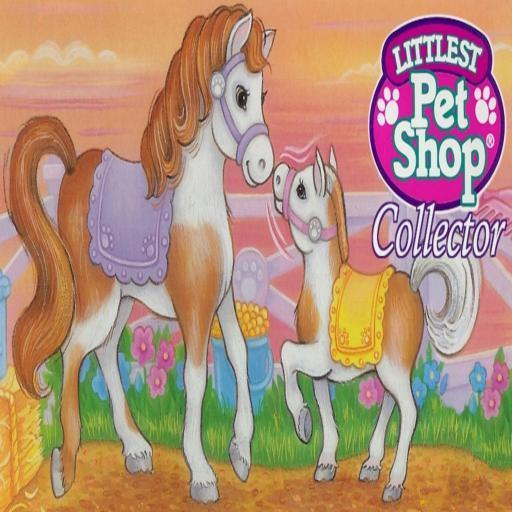horse: (6, 3, 276, 504), (272, 147, 484, 502)
